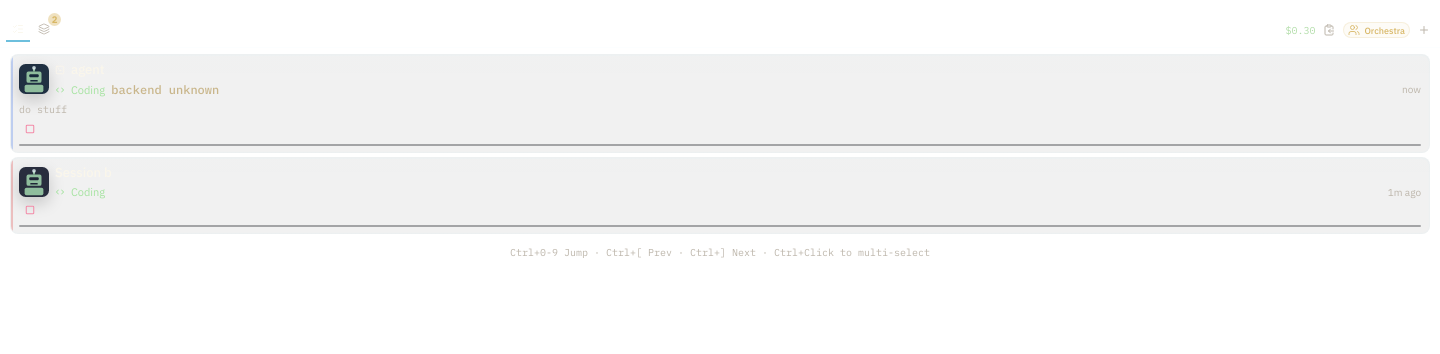
Test case: AgentInspector parallel view — live PTY tiles › keeps the cheap log-tail fallback for a session without a PTY
Click the button named "Parallel sessions": [44, 30] box [32, 18, 56, 42]
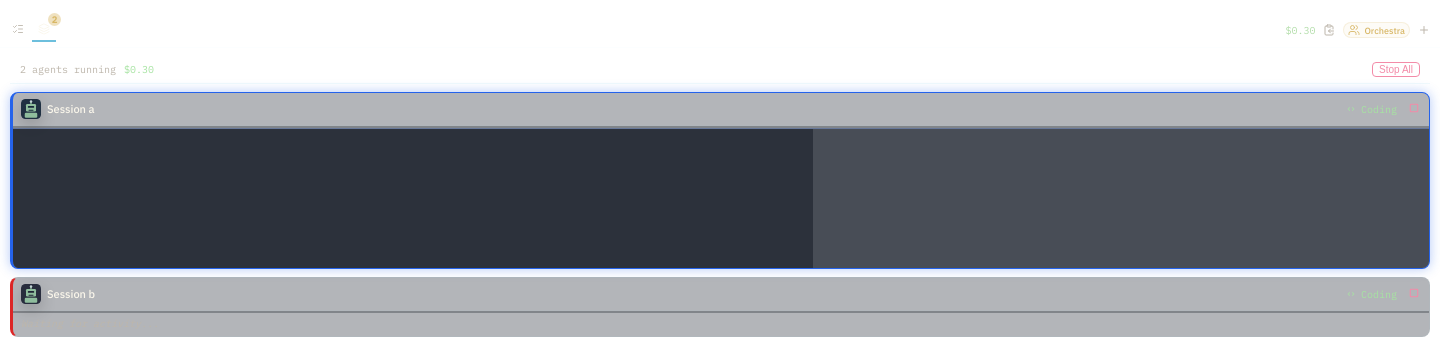
Expected: the text "Waiting for activity..." is shown, [21, 313, 159, 334]
